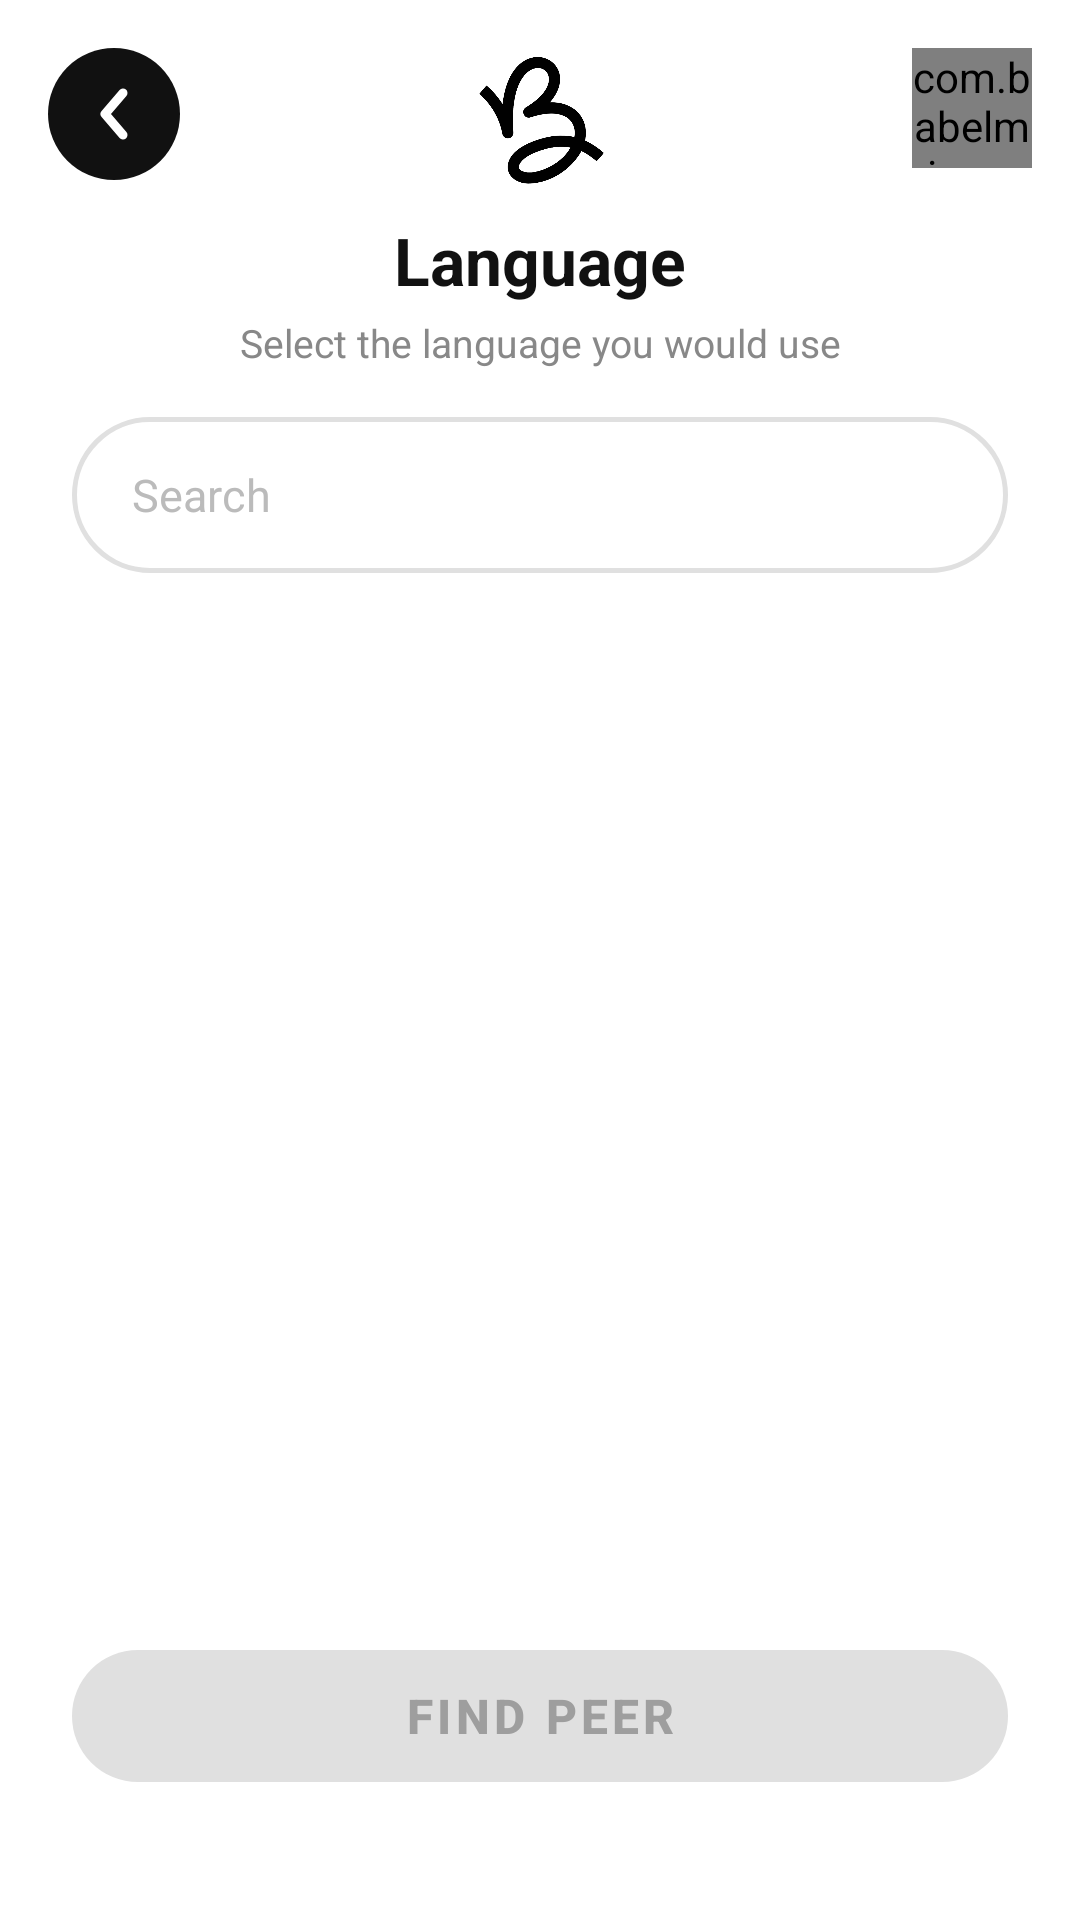

Icons on this 1080px x 1920px Android screen, each with the point to tap as (x=x, y=y):
Back: (x=114, y=114)
